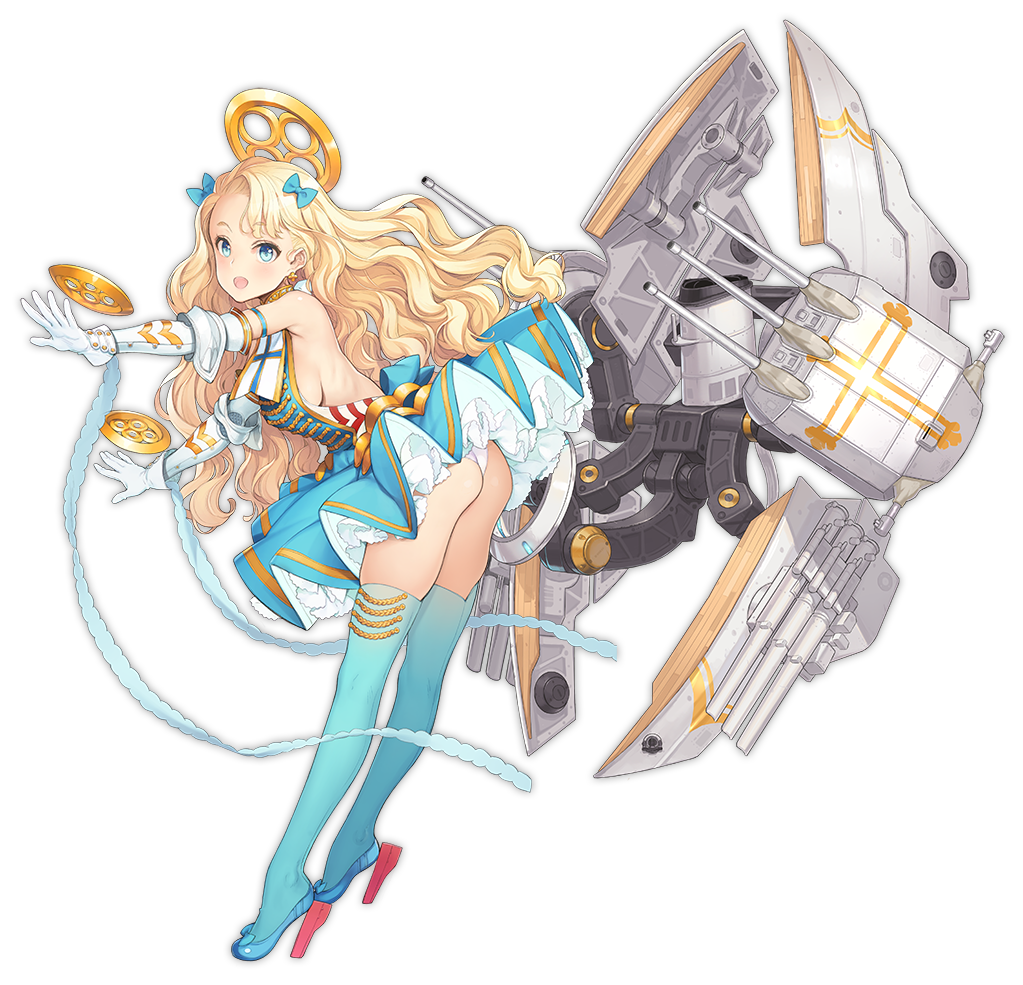person: (105, 156, 620, 793)
